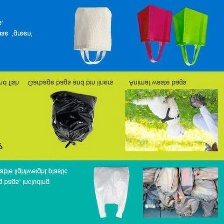plastic_bag: (46, 90, 103, 151), (91, 163, 131, 219)
